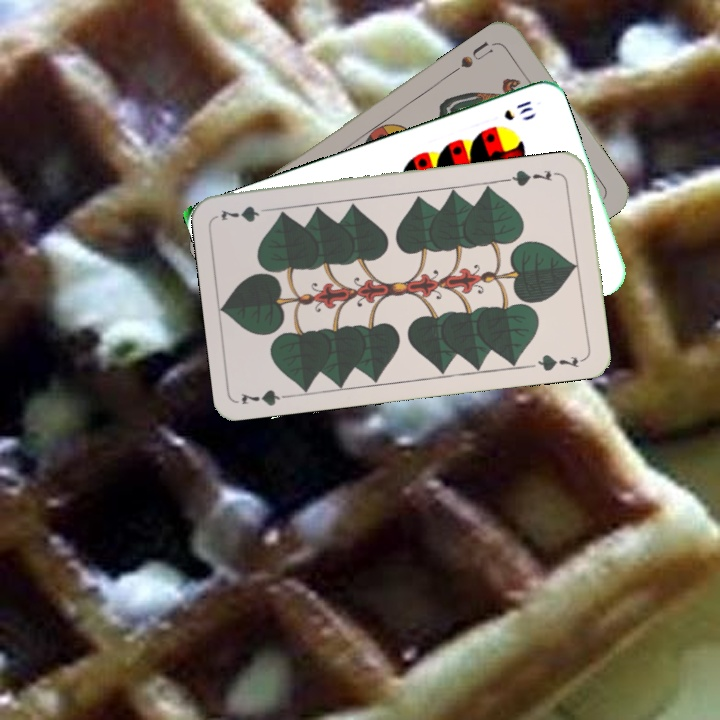G7: (237, 386, 297, 408), (504, 166, 554, 189)
S10: (499, 97, 536, 123)
SU: (456, 37, 496, 71)
